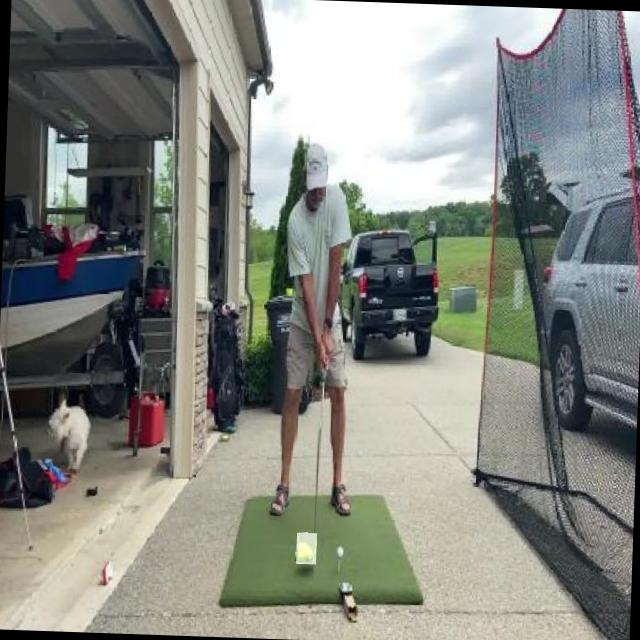club head: (296, 532, 316, 564)
